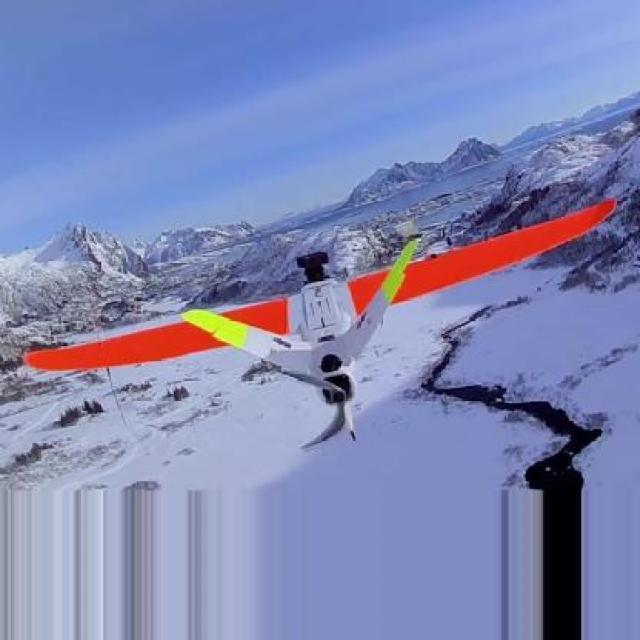iha: (16, 186, 625, 442)
